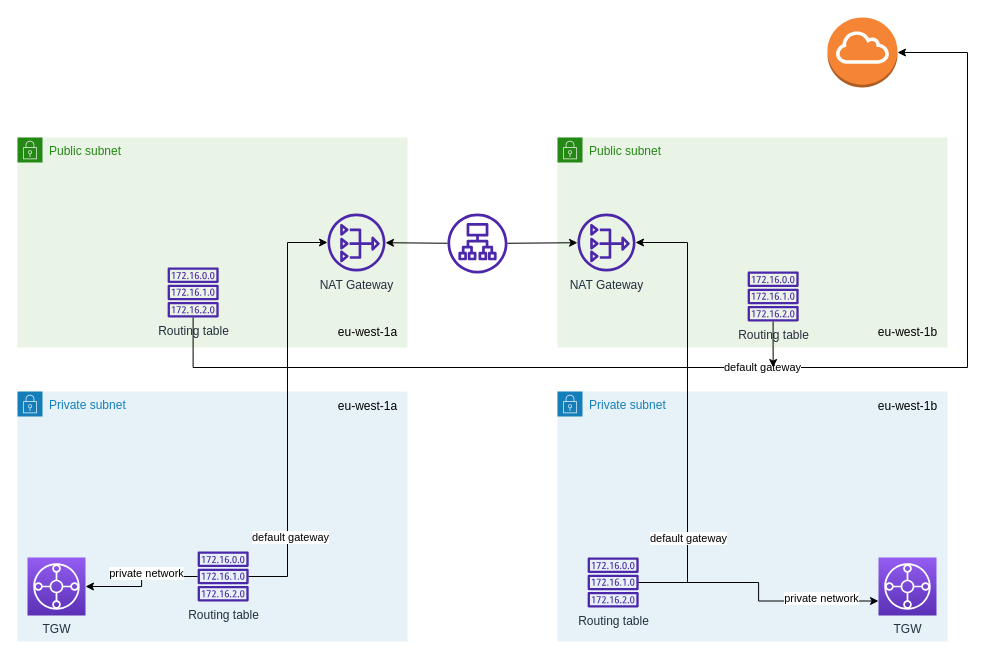
Some shapes in this 993 by 659 pixel diagram are drawn without their labels. Here are the shapes that lost their labels. From the top down, the centre of each, then its label:
point (862, 52): Internet Gateway
point (477, 243): ALB
